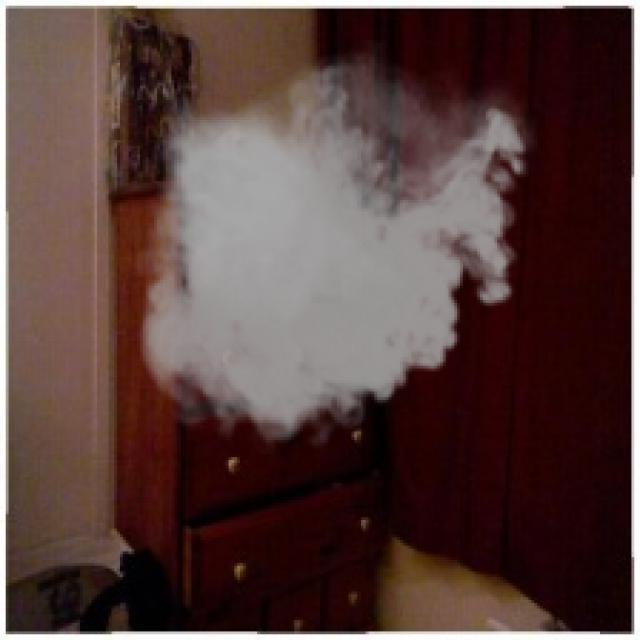Smoke: (125, 40, 540, 457)
